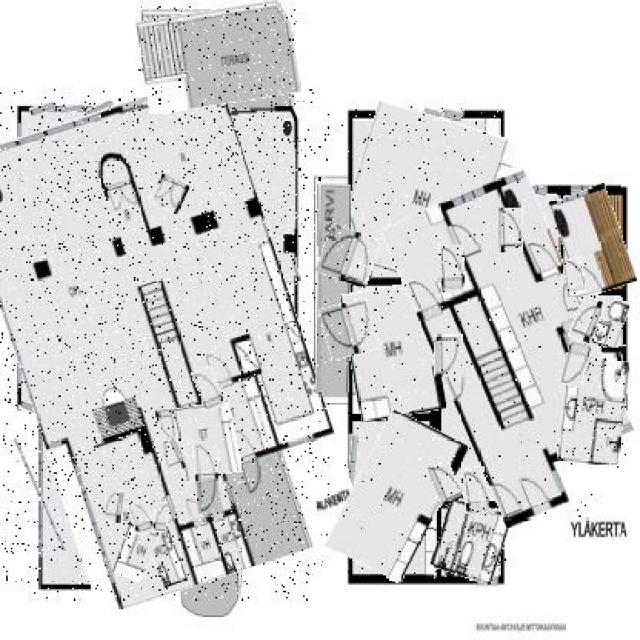door: (320, 228, 378, 284), (321, 300, 377, 358), (194, 446, 220, 517), (572, 297, 602, 343), (431, 463, 460, 506), (562, 342, 589, 388), (434, 335, 463, 377), (462, 469, 488, 514), (152, 177, 186, 211), (158, 437, 190, 472), (196, 368, 222, 409), (440, 246, 463, 292), (499, 211, 523, 254), (565, 258, 586, 297), (131, 502, 152, 536), (157, 409, 177, 442), (105, 492, 123, 523), (154, 502, 168, 532)
window: (28, 435, 55, 554), (8, 262, 30, 380), (345, 437, 357, 548), (12, 125, 26, 212), (509, 458, 542, 472), (514, 186, 546, 199), (86, 101, 114, 114), (571, 188, 600, 200), (405, 106, 426, 122), (30, 103, 56, 114), (568, 460, 592, 471), (444, 106, 462, 120), (423, 108, 443, 120), (146, 105, 171, 114), (175, 492, 183, 520), (477, 576, 498, 586), (20, 401, 35, 414), (115, 104, 146, 110), (383, 111, 402, 120), (57, 106, 83, 112), (498, 477, 504, 498), (294, 263, 298, 282)
zone: (0, 89, 329, 600), (409, 178, 620, 520), (342, 109, 509, 288), (338, 416, 454, 578), (138, 5, 297, 109), (346, 283, 442, 420), (557, 188, 629, 295), (560, 356, 626, 464), (317, 185, 349, 392), (434, 503, 506, 582), (177, 402, 238, 478), (148, 523, 185, 588), (116, 525, 156, 580), (594, 297, 626, 348)
